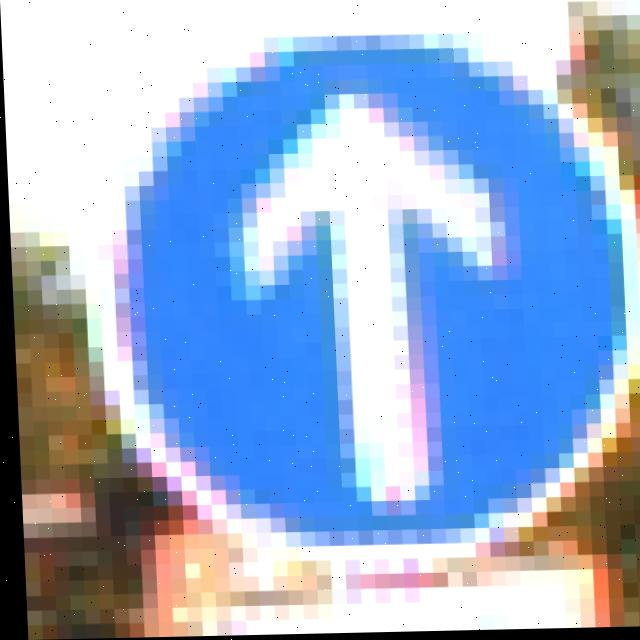compulsory_ahead: (82, 37, 640, 551)
